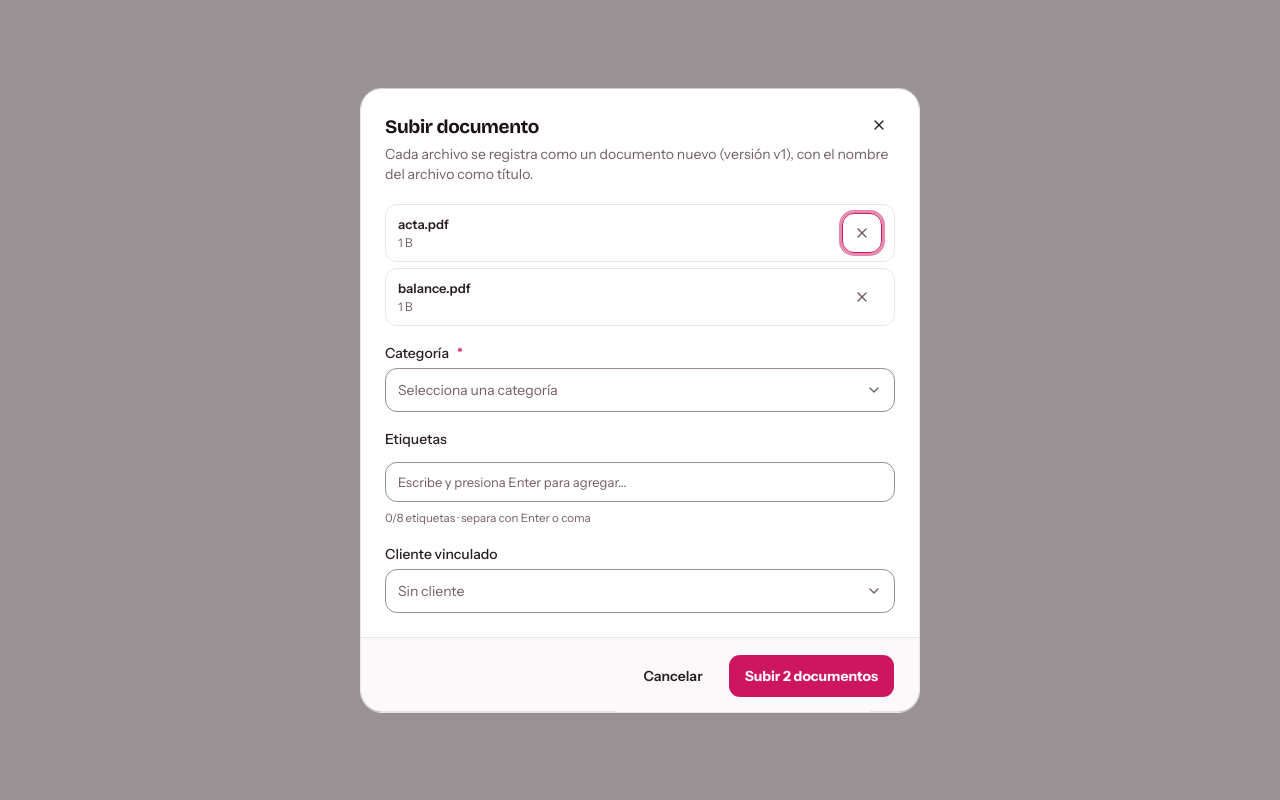
Test case: UploadDocumentDialog — modal review (1.5) › locks Cancelar while a batch is uploading
The width and height of the screenshot is (1280, 800).
Click the dropdown labelled "Selecciona una categoría ▼".
click(478, 390)  # box [385,368,895,412]
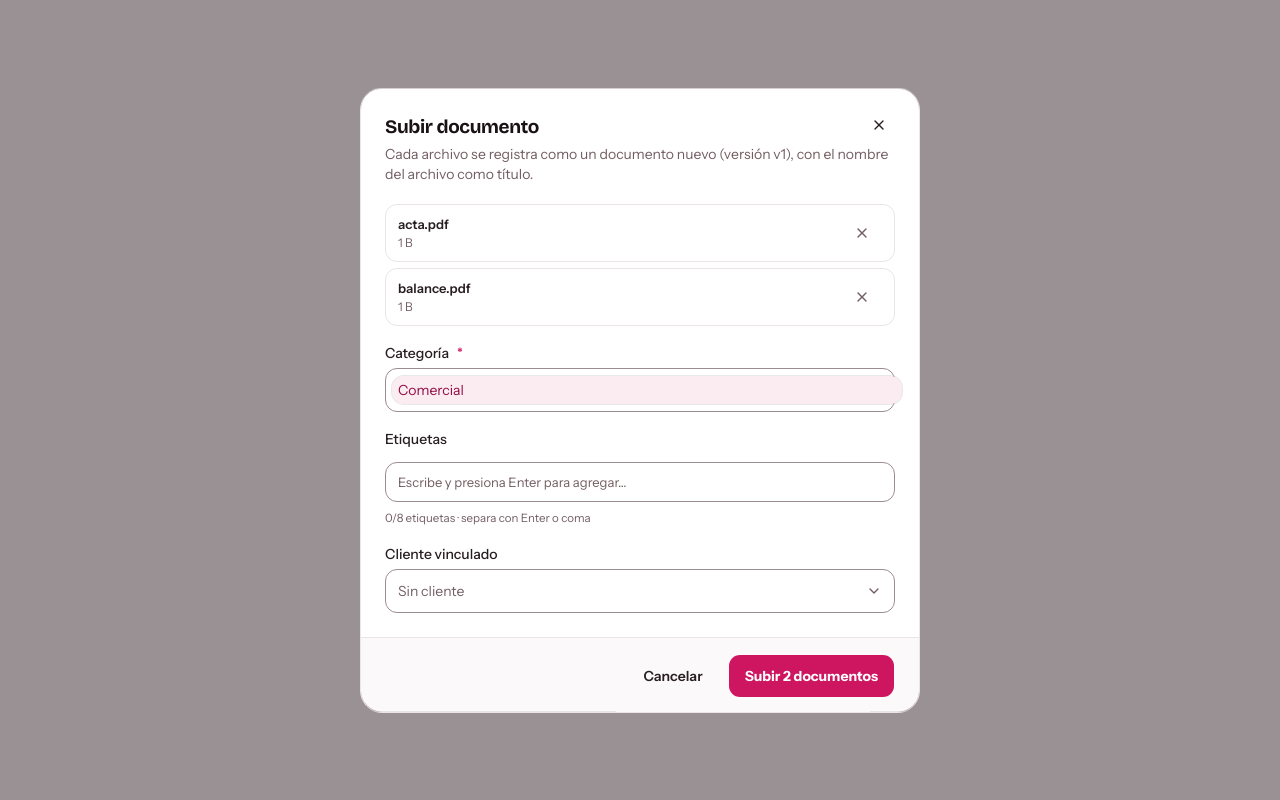
Click the option "Comercial".
click(431, 390)  # box [392,376,902,404]
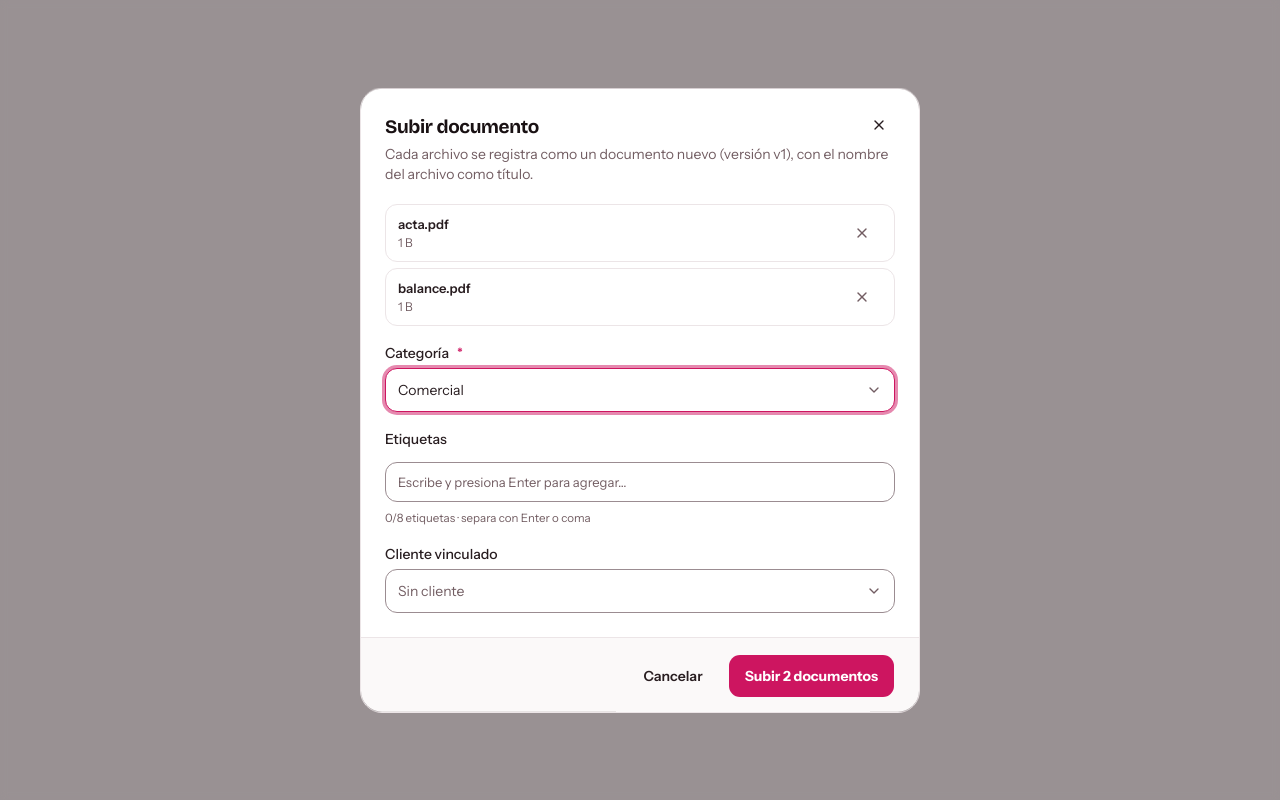
Click the button "Subir 2 documentos".
click(811, 675)  # box [728,653,895,697]
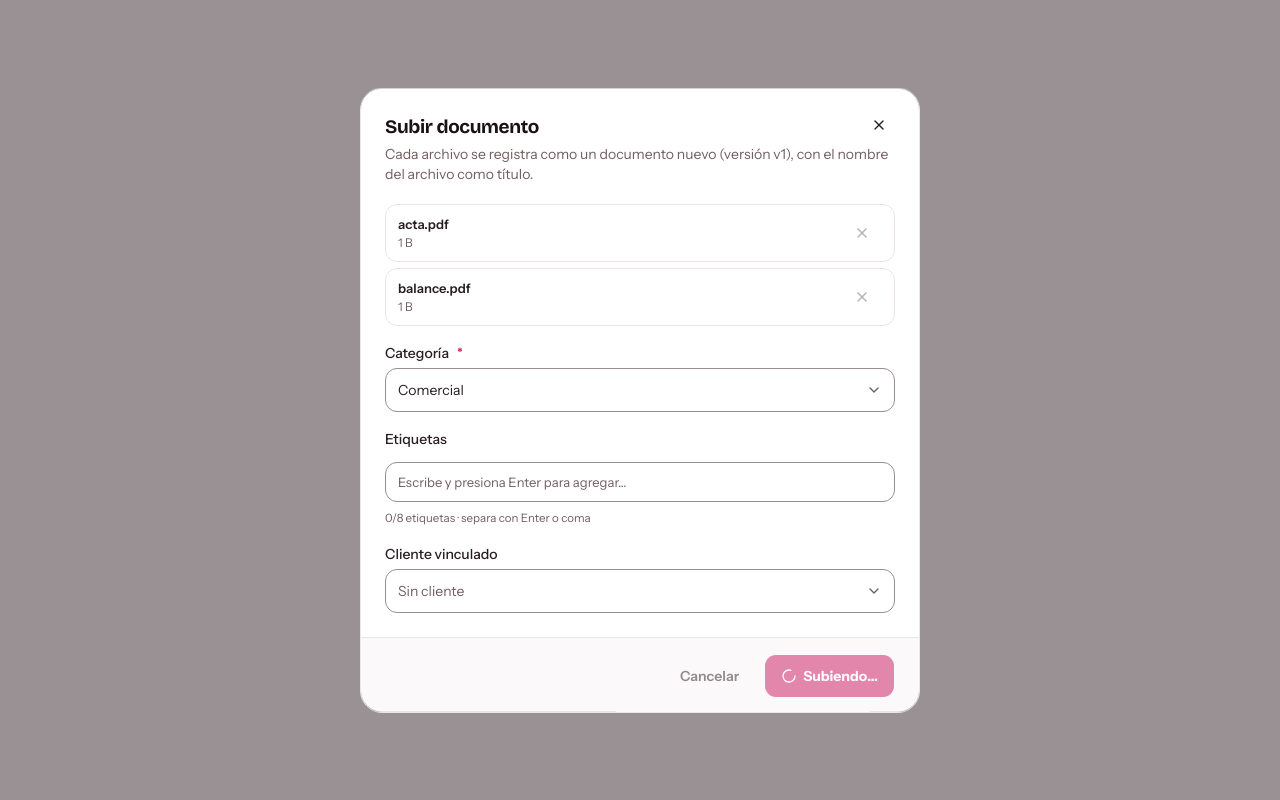
Check: the button "Subiendo…" is disabled, box [764,653,895,697]
Check: the button "Cancelar" is disabled, box [663,653,756,697]
